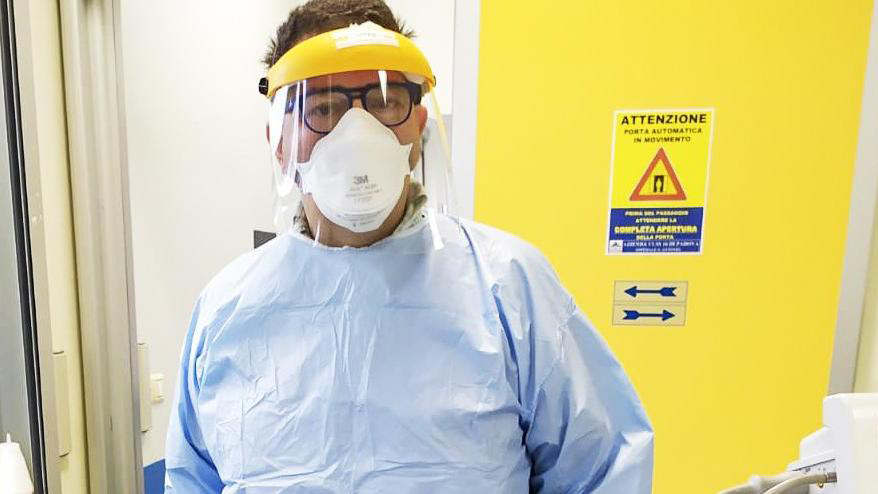Coverall: (163, 231, 656, 491)
Face_Shield: (262, 27, 469, 255)
with_mask: (293, 109, 410, 233)
